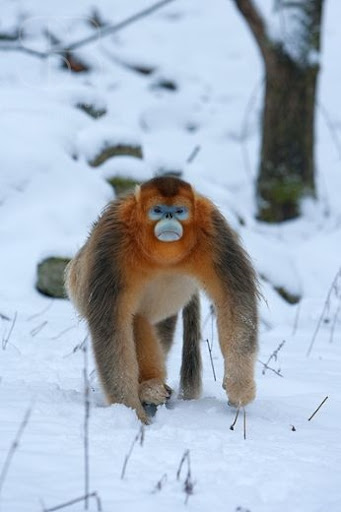GoldenSnub-Nosed: (62, 161, 273, 425)
